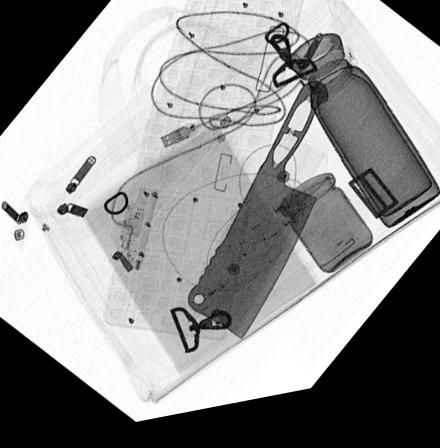Knife: (186, 90, 330, 351)
